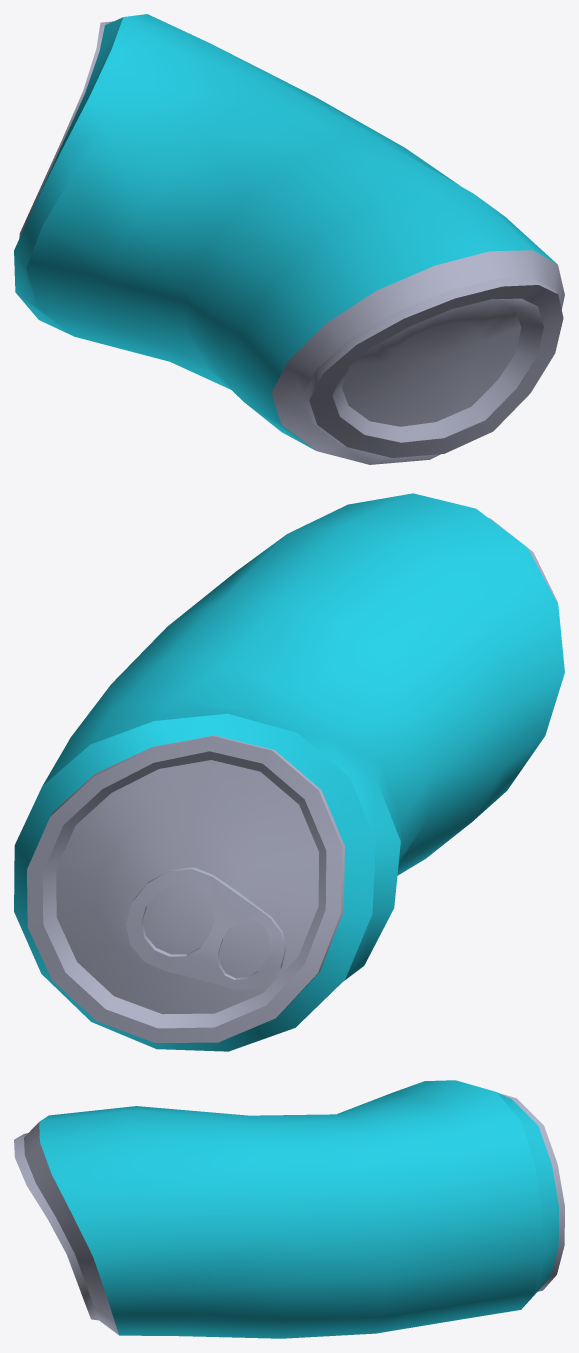
The model's file is Misc_BeverageCan_01_Crushed_B.fbx.
3 renders of one model, top to bottom at view 1: azimuth 30°, elevation 25°; view 2: azimuth 150°, elevation 25°; view 3: azimuth 270°, elevation 25°, orthographic. The views are drawn at different scales.
Parts seen in each view (by area): view 1: Misc_BeverageCan_01_Crushed_B.001; view 2: Misc_BeverageCan_01_Crushed_B.001; view 3: Misc_BeverageCan_01_Crushed_B.001.
Boxes of the visible parts, x1=… form: Misc_BeverageCan_01_Crushed_B.001: x1=14, y1=14, x2=564, y2=464; Misc_BeverageCan_01_Crushed_B.001: x1=14, y1=493, x2=564, y2=1051; Misc_BeverageCan_01_Crushed_B.001: x1=14, y1=1080, x2=564, y2=1338.
Size of the model in its own units: 0.0808 by 0.0666 by 0.1514.
